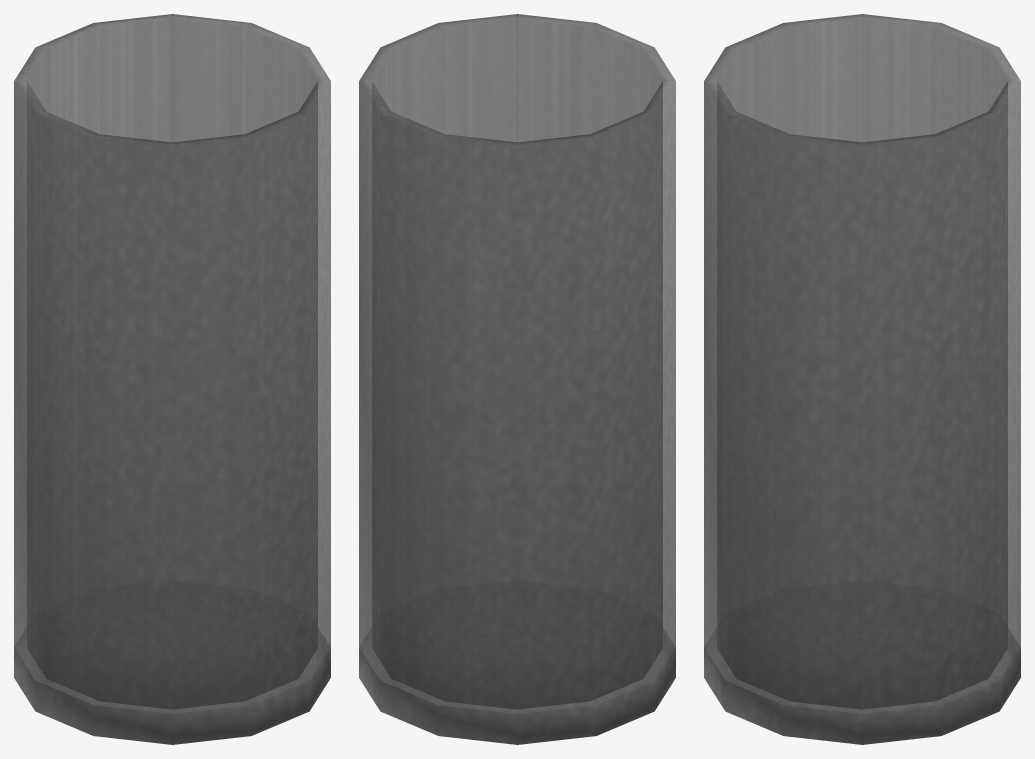
File: empy_glass_02.glb
The picture shows the model from 3 angles, left to right: view 1: azimuth 30°, elevation 25°; view 2: azimuth 150°, elevation 25°; view 3: azimuth 270°, elevation 25°; orthographic projection.
Parts seen in each view (by area): view 1: empy glass.02; view 2: empy glass.02; view 3: empy glass.02.
Boxes of the visible parts, x1,y1,x2,y2 form: empy glass.02: (14, 14, 330, 744); empy glass.02: (359, 14, 675, 744); empy glass.02: (704, 14, 1020, 744).
Bounding box in the file's own units: 0.0989 × 0.2058 × 0.0989.
Materials: 2 (2 with a texture image).
